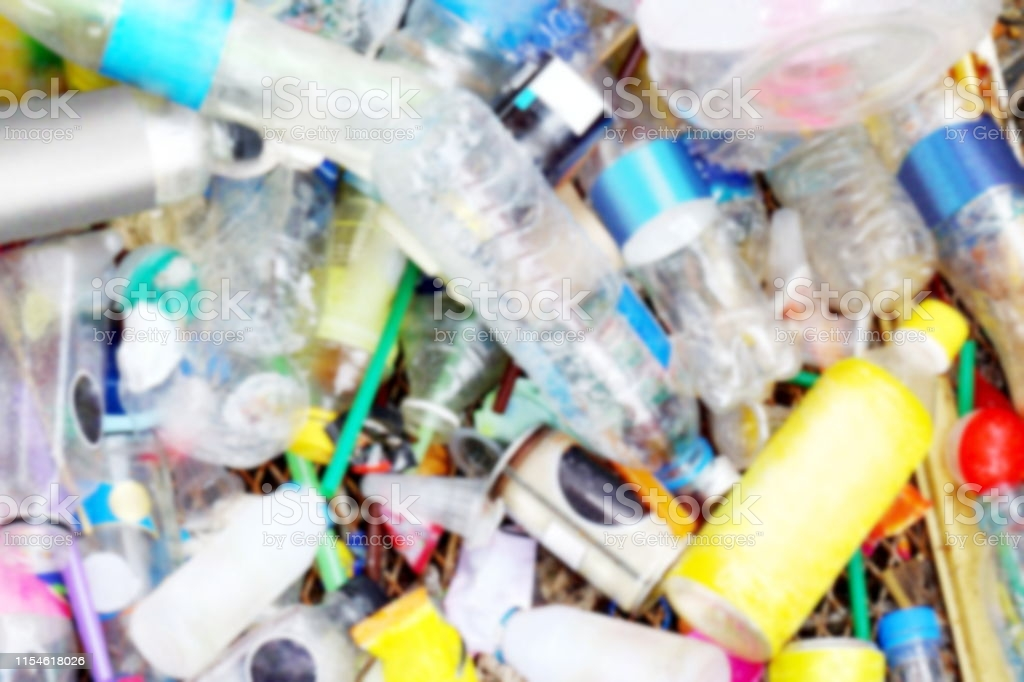plastic_bottle: (317, 77, 828, 582), (582, 186, 983, 682), (724, 13, 1004, 425), (822, 9, 1024, 542)
